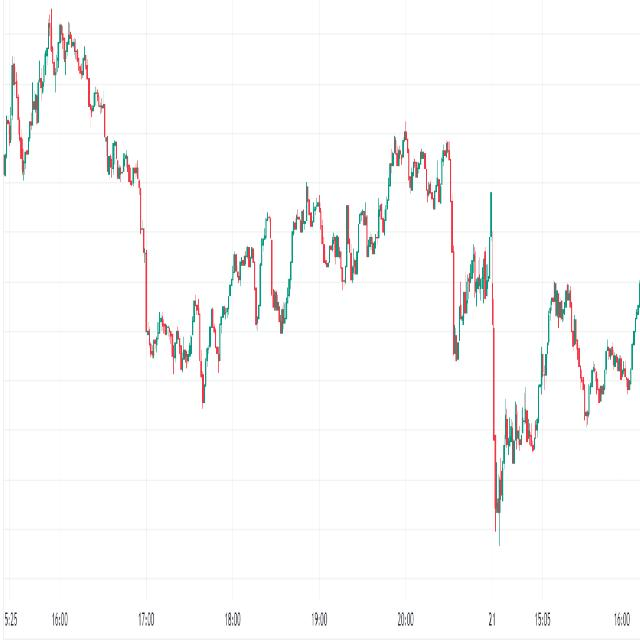Head-Shoulders: (286, 173, 327, 291)
